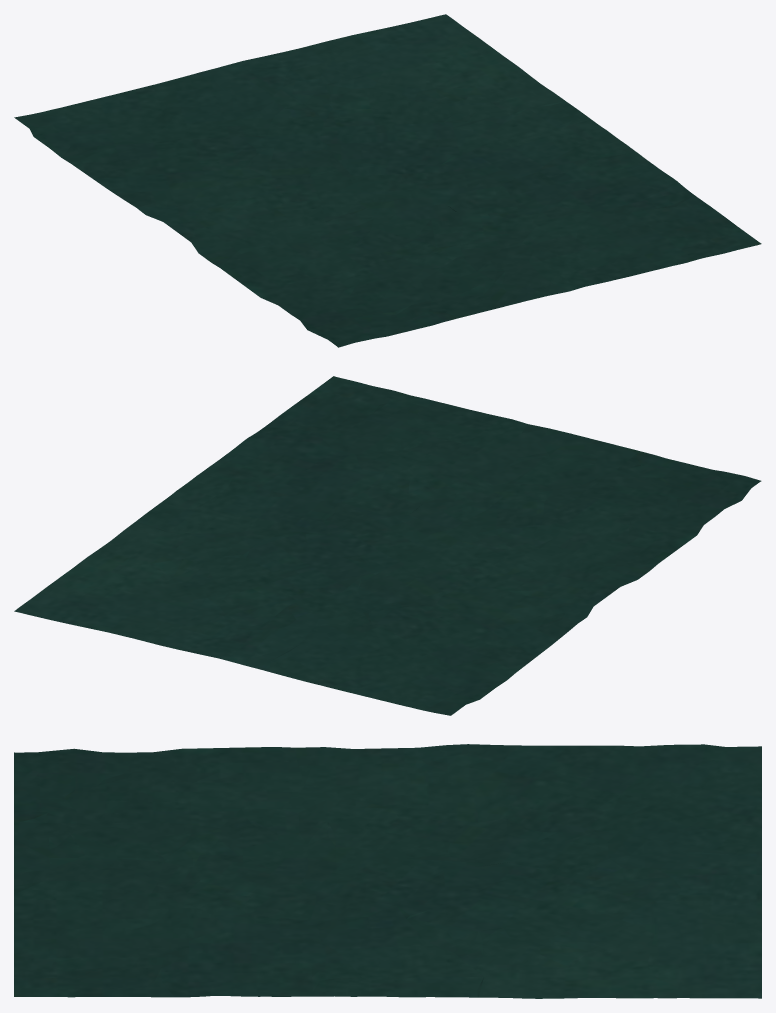
3 renders of one model, top to bottom at view 1: azimuth 30°, elevation 25°; view 2: azimuth 150°, elevation 25°; view 3: azimuth 270°, elevation 25°, orthographic. The views are drawn at different scales.
Bounding box in the file's own units: 83.35 × 0.7205 × 104.
Materials: 2 (2 with a texture image).
